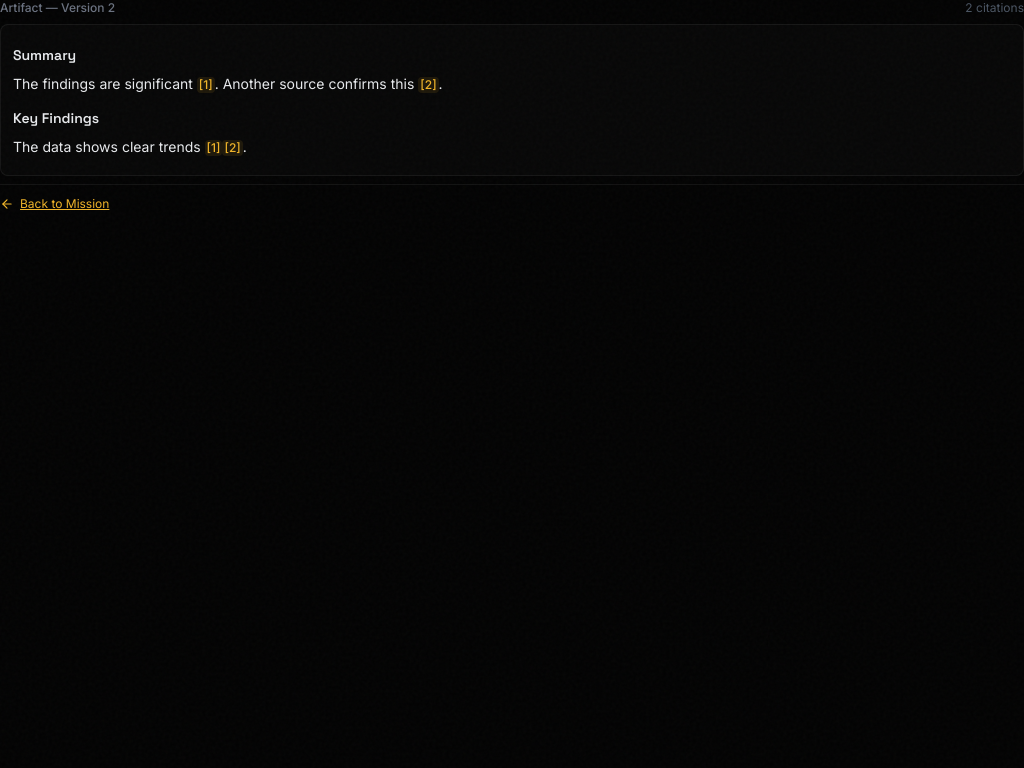
it: MissionArtifactCitations — research_report format › opens provenance drawer when clicking a citation mark in research_report
# Click citation mark [1] (first occurrence)
Click the button named "citation 1": click(206, 85) [197,77,215,93]
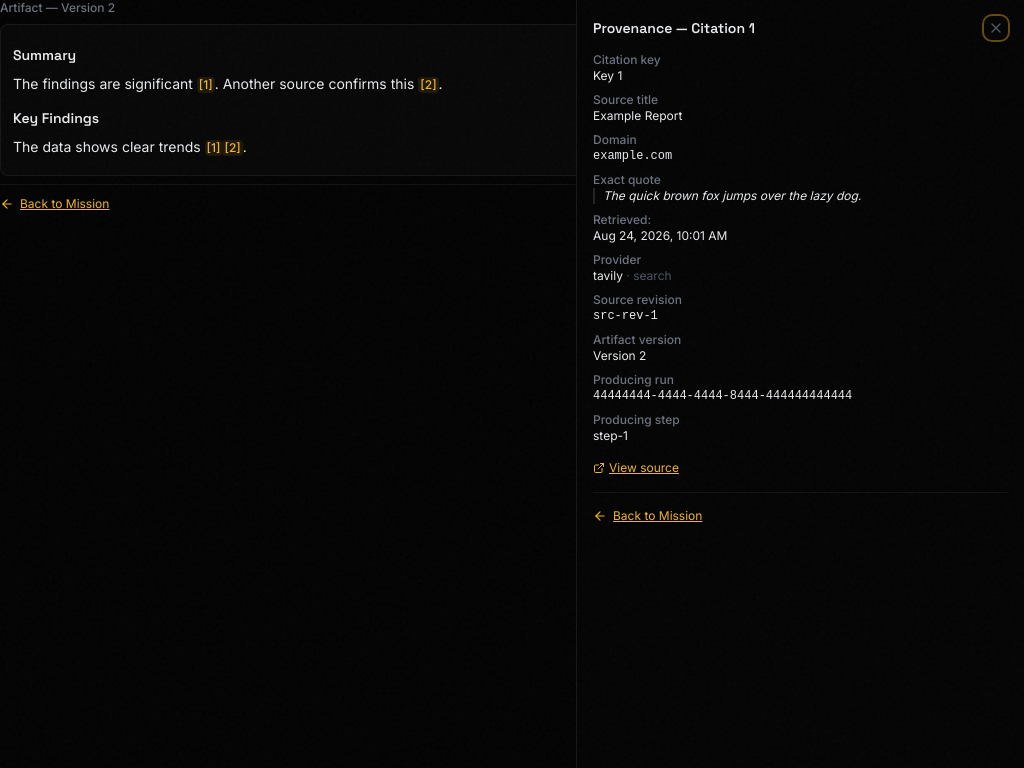
Expected: the dialog with test id "provenance-drawer" is shown, [576,0,1023,767]
Expected: the heading "Provenance — Citation 1" is shown, [593,18,755,38]
